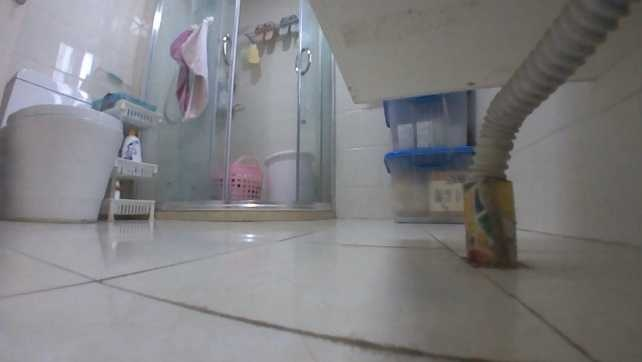door_sill: (156, 200, 334, 221)
toilet: (2, 66, 123, 222)
